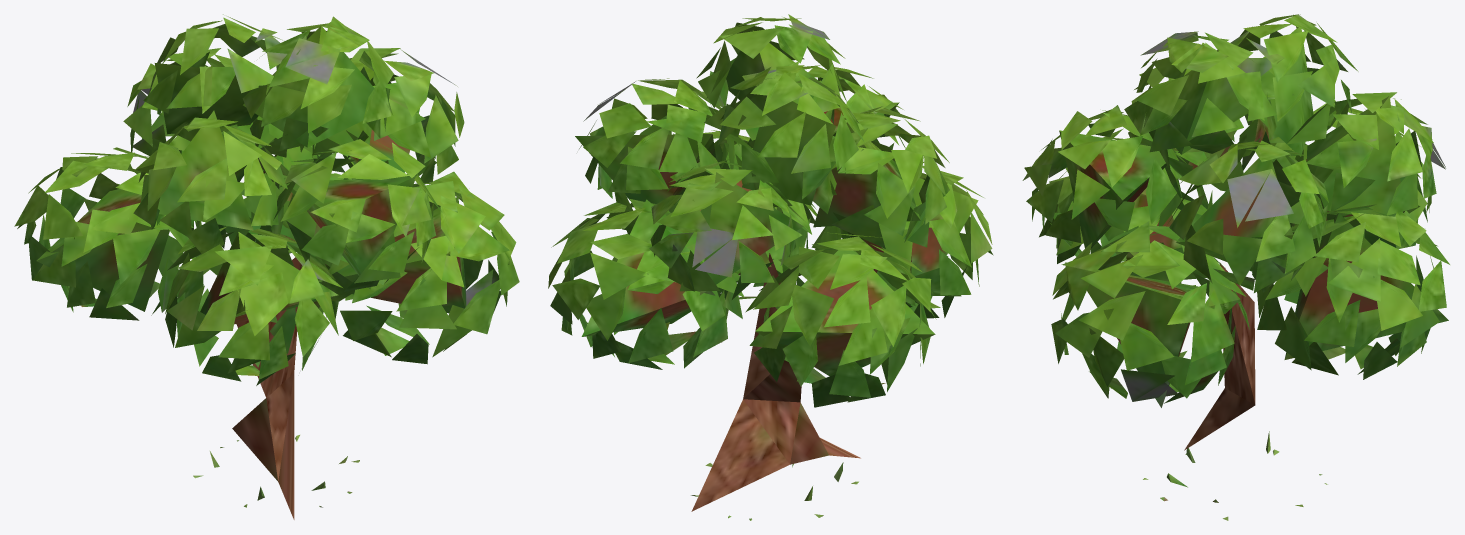
The model's file is oak.glb.
3 views of the same model, side by side, from view 1: azimuth 30°, elevation 25°; view 2: azimuth 150°, elevation 25°; view 3: azimuth 270°, elevation 25° (orthographic).
Parts seen in each view (by area): view 1: Mesh; view 2: Mesh; view 3: Mesh.
Part boxes in pixels (x1=…): Mesh: x1=14, y1=14, x2=519, y2=519; Mesh: x1=548, y1=14, x2=993, y2=520; Mesh: x1=1022, y1=14, x2=1449, y2=520.
Size of the model in its own units: 0.8955 by 1 by 0.853.
1 material, 1 textured.
